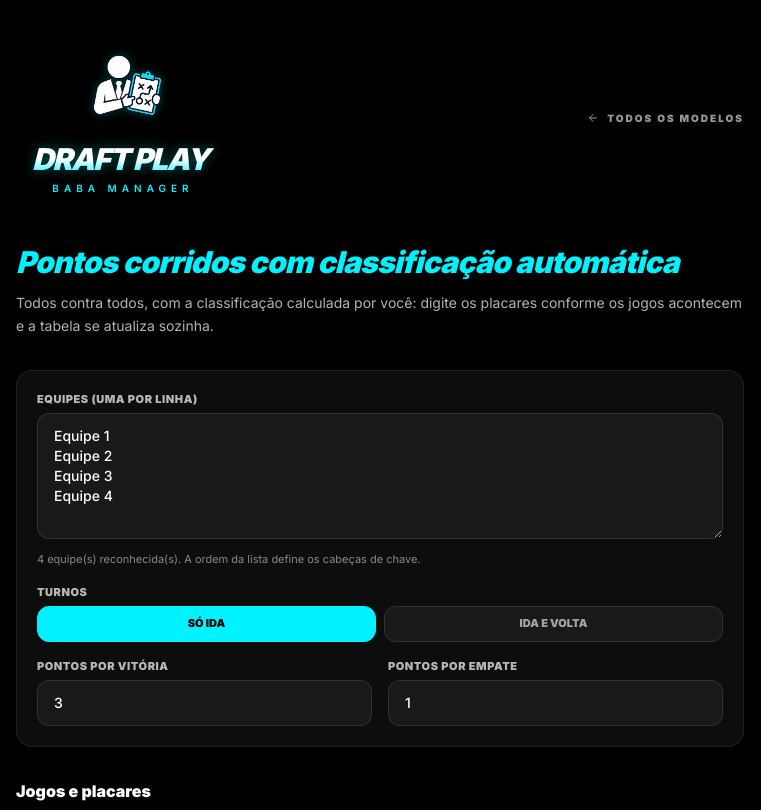
Test: Pontos corridos com classificação automática › pontuação incoerente mostra erro
Replace the text in the number field labelled "Pontos por vitória" with "1" at (204, 703), box [37,680,372,726]
(page scrolled)
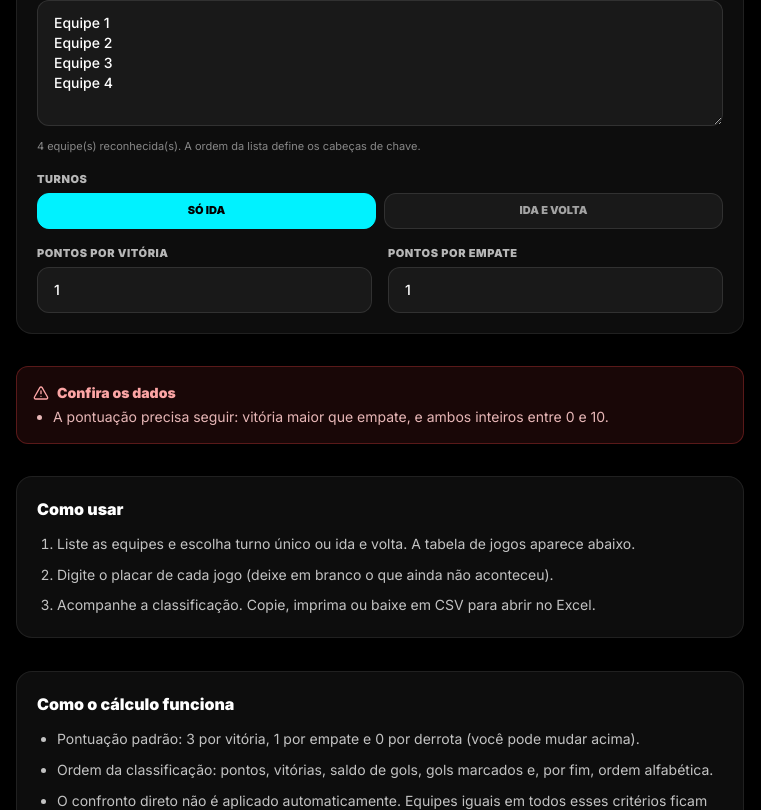
Expected: the message shows "vitória maior que empate", [53,408,609,425]
